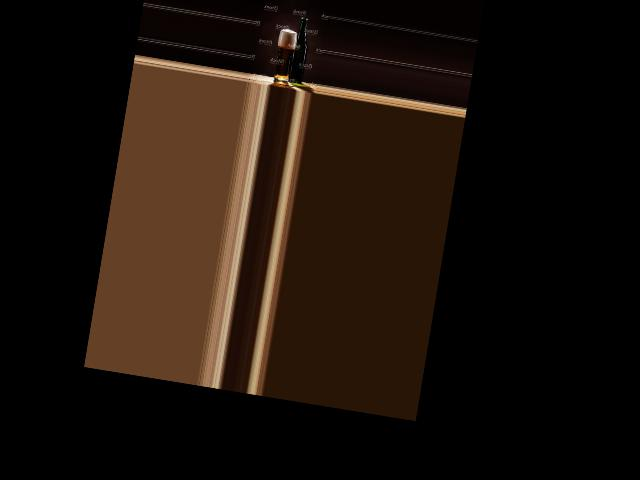beer: (287, 16, 312, 84)
